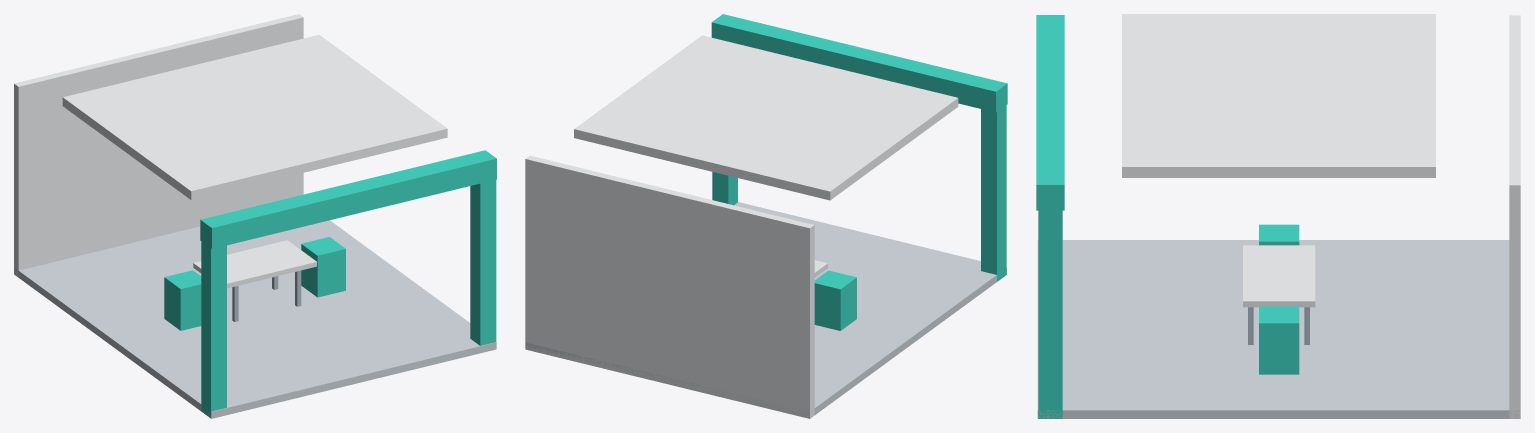
The picture shows the model from 3 angles, left to right: view 1: azimuth 30°, elevation 25°; view 2: azimuth 150°, elevation 25°; view 3: azimuth 270°, elevation 25°; orthographic projection. The views are drawn at different scales.
Visible parts, largest first — view 1: Exhibition Booth Concept; view 2: Exhibition Booth Concept; view 3: Exhibition Booth Concept.
Boxes of the visible parts, box(x1,y1,x2,y2) form: Exhibition Booth Concept: box(14, 14, 496, 418); Exhibition Booth Concept: box(525, 14, 1007, 418); Exhibition Booth Concept: box(1036, 14, 1520, 418).
Size of the model in its own units: 5 by 3.34 by 6.02.
